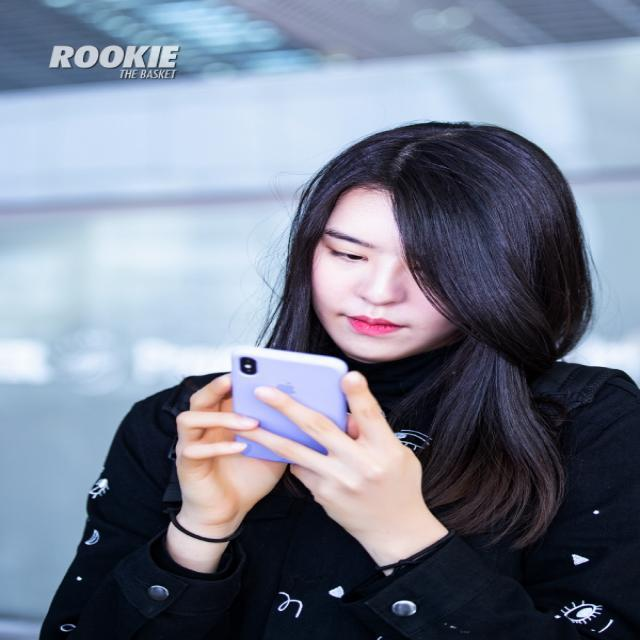Phone: (228, 344, 351, 468)
